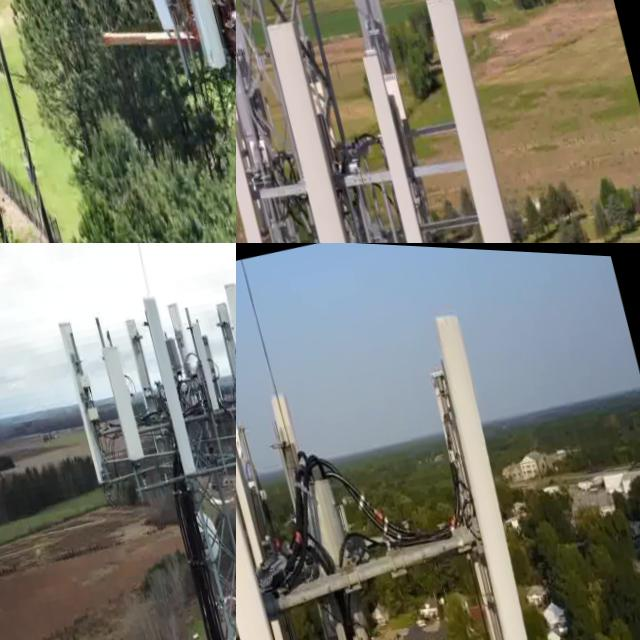GSM Antenna: (405, 282, 560, 640), (236, 377, 346, 640), (418, 0, 536, 243), (261, 8, 379, 243), (352, 34, 443, 243), (236, 414, 312, 640), (49, 304, 125, 491), (137, 285, 203, 471), (236, 64, 290, 243), (262, 384, 325, 530), (95, 337, 155, 465), (118, 304, 167, 419), (164, 0, 236, 78), (184, 307, 227, 409), (162, 291, 204, 394), (213, 273, 236, 453), (347, 0, 400, 63), (122, 0, 185, 48)
Microwave Antenna: (191, 497, 231, 573)
